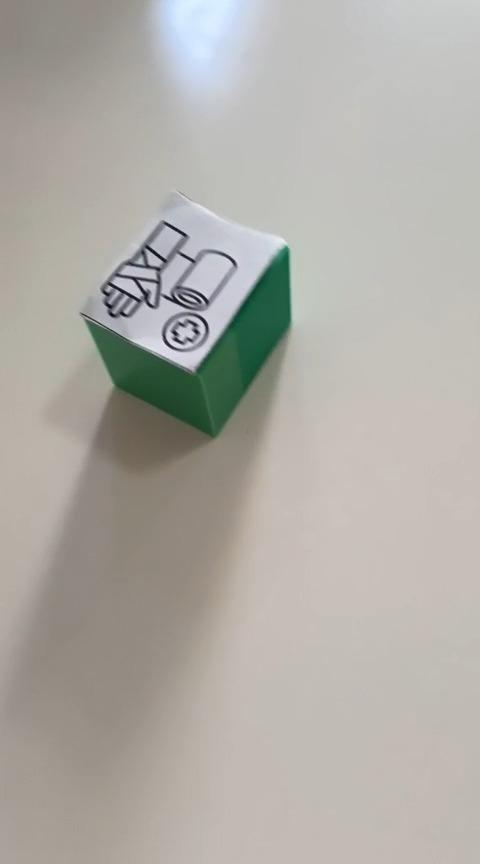Bandages: (78, 187, 292, 439)
